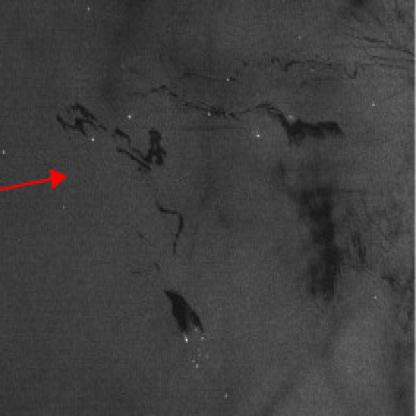oil: (270, 179, 391, 339), (28, 96, 183, 189), (141, 204, 227, 364), (240, 81, 350, 166)
